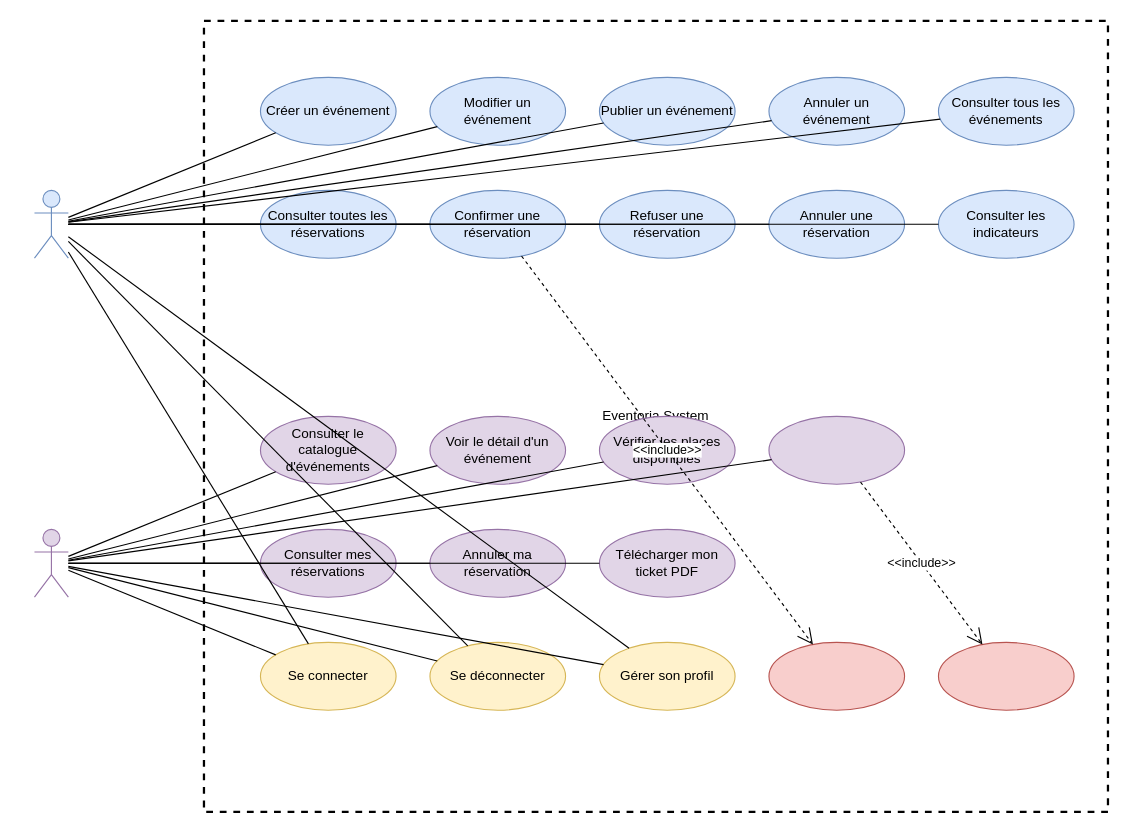
This 1129x832 diagram has some shape labels left out. The centre of each missing label's shape, as x and y in pixels:
"Admin" belongs at (x=50, y=223).
"Effectuer une réservation" belongs at (x=836, y=449).
"Générer un ticket PDF" belongs at (x=836, y=675).
"Participant" belongs at (x=50, y=562).
"Vérifier la capacité" belongs at (x=1005, y=675).
